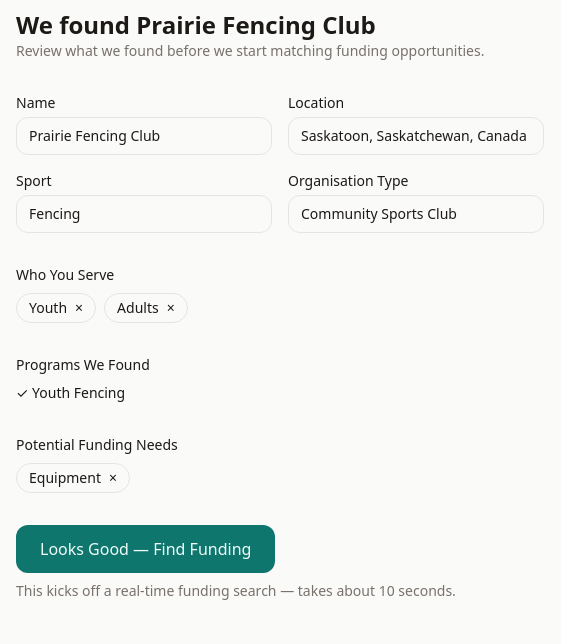
Confirm page › shows an inline error with retry when /api/funding fails, without navigating
Click the button "Looks Good — Find Funding".
click(146, 549)  # box x1=16 y1=525 x2=275 y2=573
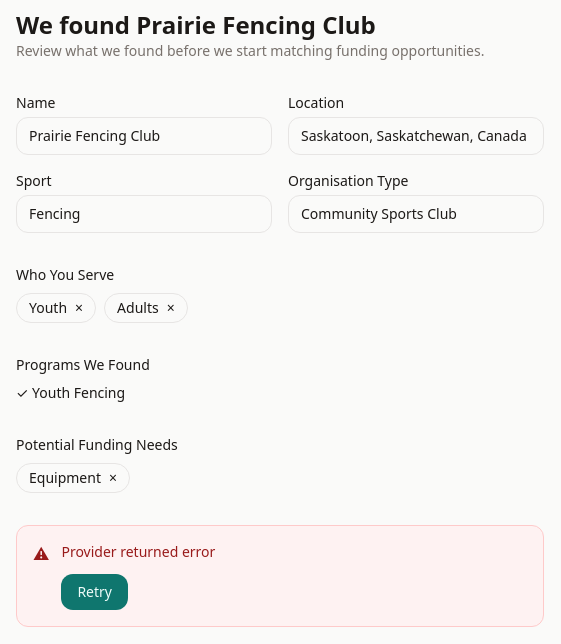
Check: the message shows "Provider returned error", box x1=61 y1=542 x2=215 y2=561
Check: the button "Retry" is shown, box x1=61 y1=574 x2=128 y2=610
